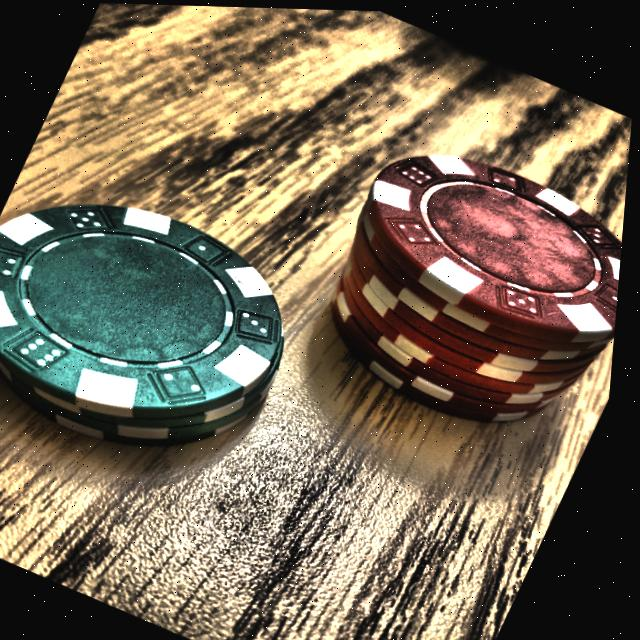Chip: (263, 93, 634, 470), (0, 146, 358, 512)
